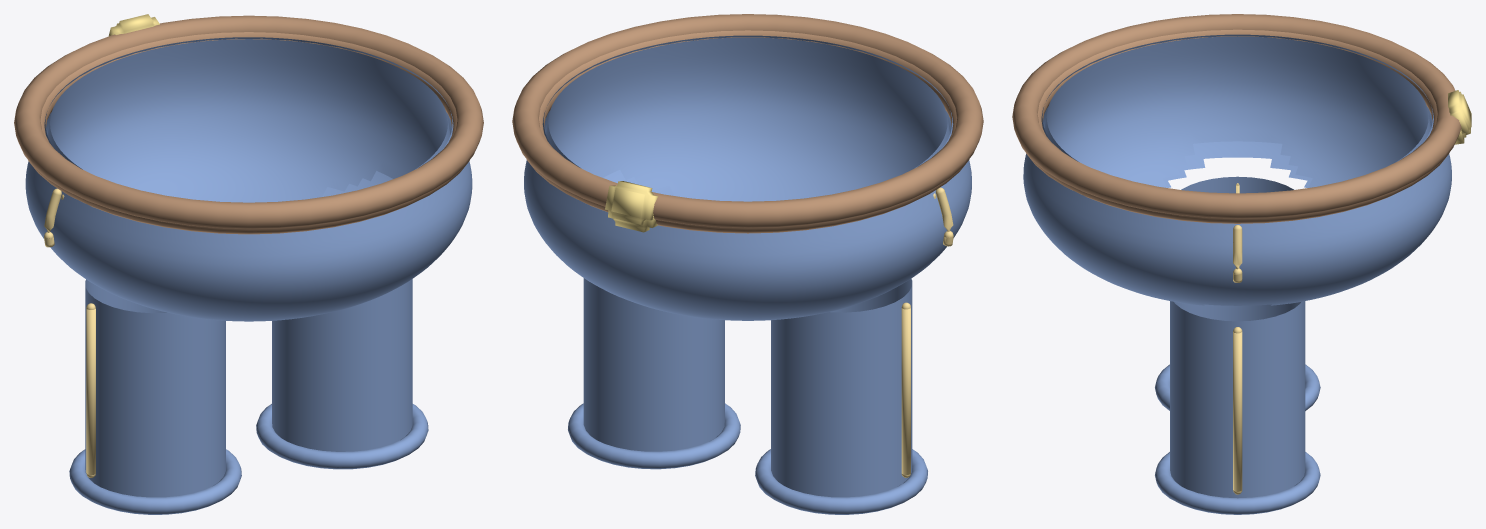
Rendered from jeans.glb.
3 views of the same model, side by side, from view 1: azimuth 30°, elevation 25°; view 2: azimuth 150°, elevation 25°; view 3: azimuth 270°, elevation 25° (orthographic). The views are drawn at different scales.
Visible parts, largest first — view 1: BodyGirl, BodyBoy, LegL, LegR; view 2: BodyGirl, BodyBoy, LegL, LegR; view 3: BodyGirl, BodyBoy, LegR, LegL.
Part boxes in pixels (left/top/right/bottom): BodyGirl: left=14, top=14, right=483, bottom=321; BodyBoy: left=28, top=32, right=469, bottom=234; LegL: left=69, top=279, right=241, bottom=514; LegR: left=256, top=279, right=428, bottom=469; BodyGirl: left=512, top=14, right=983, bottom=320; BodyBoy: left=526, top=30, right=969, bottom=233; LegL: left=755, top=278, right=927, bottom=514; LegR: left=568, top=278, right=740, bottom=469; BodyGirl: left=1012, top=14, right=1471, bottom=305; BodyBoy: left=1026, top=29, right=1466, bottom=223; LegR: left=1155, top=301, right=1320, bottom=514; LegL: left=1155, top=176, right=1320, bottom=410.
Bounding box in the file's own units: 0.4814 × 0.4016 × 0.4886.
